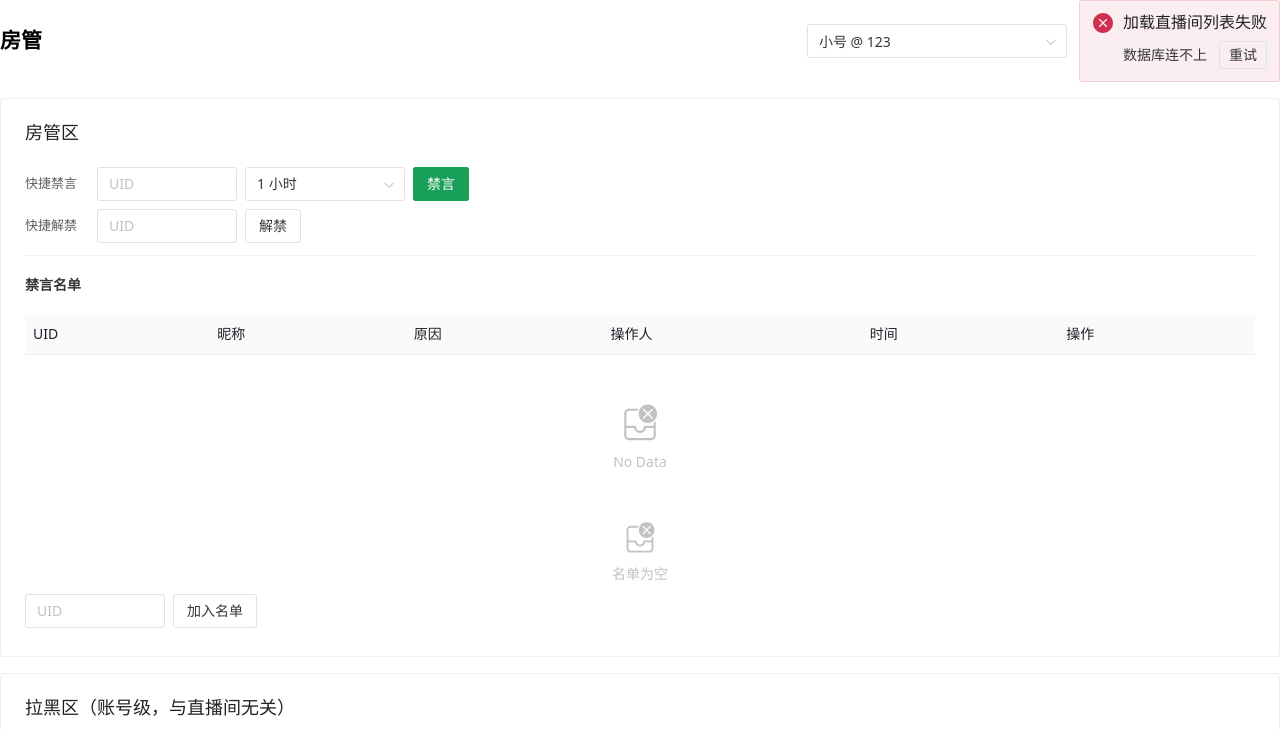
Test: Moderation 页：正文里也有账号+直播间选择器 › 绑定列表加载失败时，页面正文里的选择器原样显示后端错误，点「重试」会重新请求
The width and height of the screenshot is (1280, 729).
Click the button "重试": (1243, 55) [1219,41,1267,69]
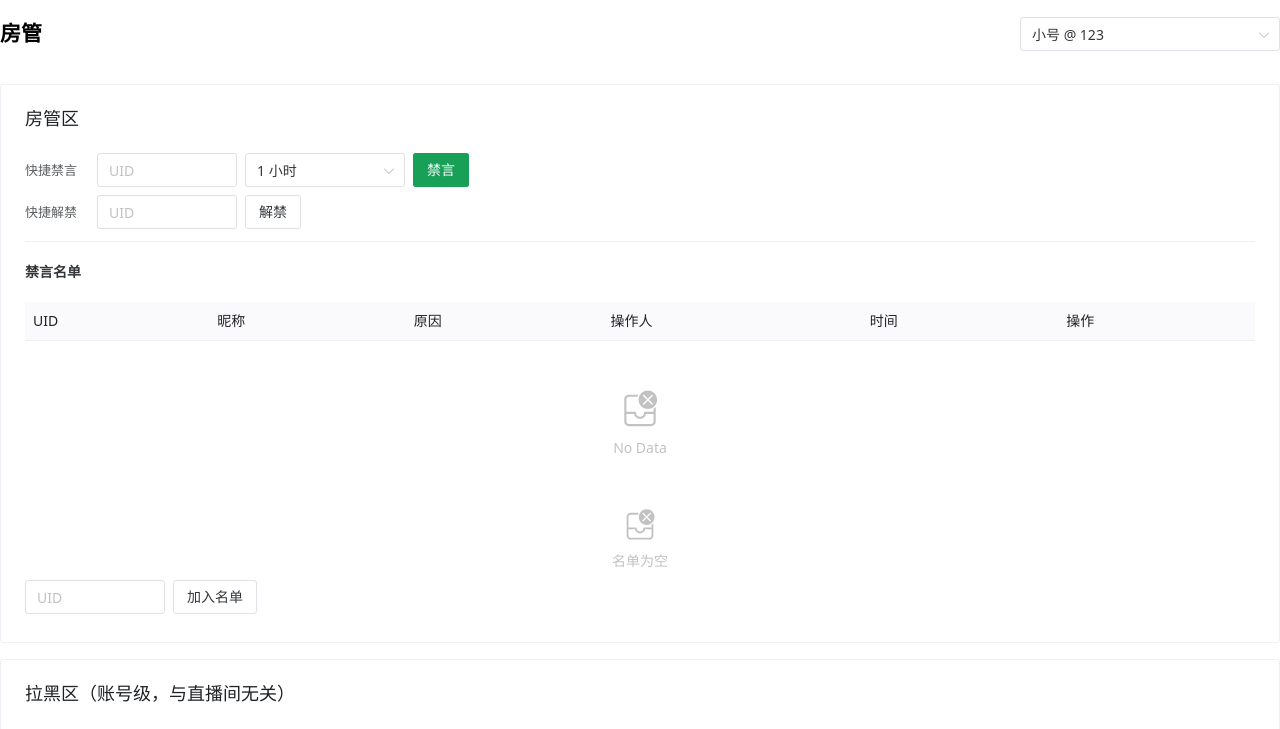
Check: the text "数据库连不上" is gone
